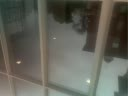window: (3, 1, 128, 96)
